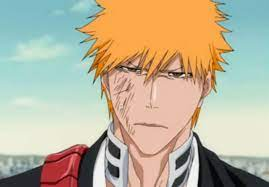Ichigo: (94, 1, 212, 154)
